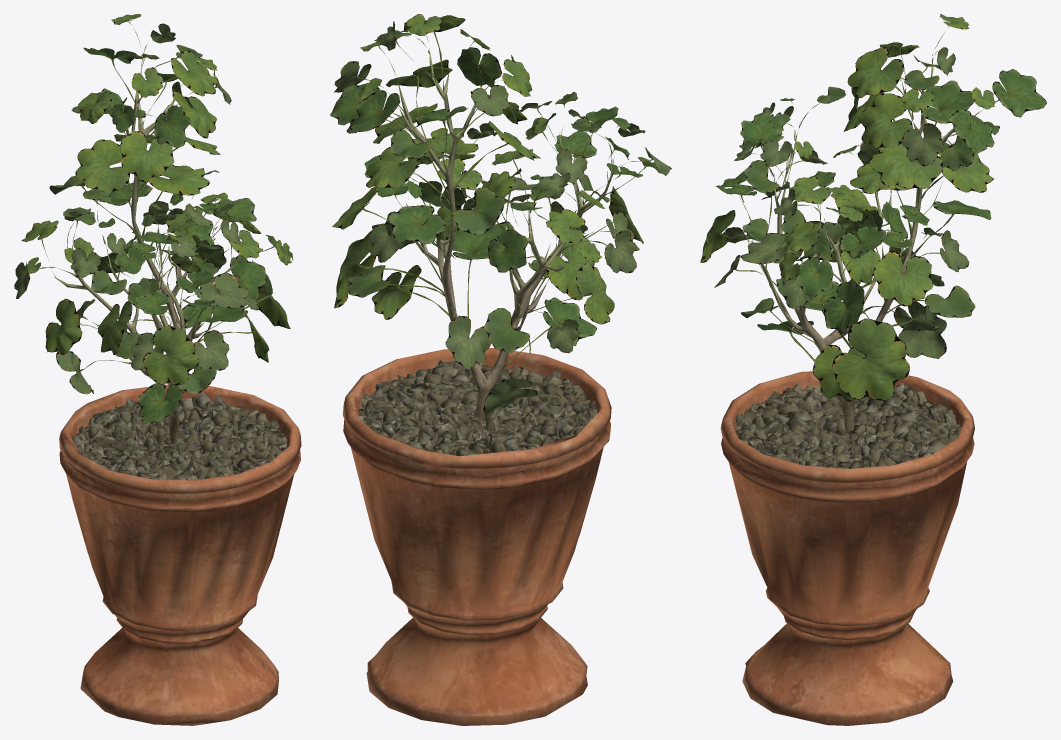
The model's file is potted_plant_01.glb.
3 renders of one model, left to right at view 1: azimuth 30°, elevation 25°; view 2: azimuth 150°, elevation 25°; view 3: azimuth 270°, elevation 25°, orthographic. The views are drawn at different scales.
Parts seen in each view (by area): view 1: potted_plant_01_pot, potted_plant_01_leaves, potted_plant_01_pebbles, potted_plant_01_stem; view 2: potted_plant_01_pot, potted_plant_01_leaves, potted_plant_01_pebbles, potted_plant_01_stem; view 3: potted_plant_01_pot, potted_plant_01_leaves, potted_plant_01_pebbles, potted_plant_01_stem.
Boxes of the visible parts, left/top/right/bottom form: potted_plant_01_pot: left=59, top=384, right=301, bottom=725; potted_plant_01_leaves: left=14, top=14, right=293, bottom=423; potted_plant_01_pebbles: left=68, top=392, right=286, bottom=480; potted_plant_01_stem: left=54, top=57, right=244, bottom=444; potted_plant_01_pot: left=343, top=348, right=611, bottom=725; potted_plant_01_leaves: left=330, top=14, right=671, bottom=414; potted_plant_01_pebbles: left=358, top=360, right=597, bottom=474; potted_plant_01_stem: left=397, top=48, right=612, bottom=420; potted_plant_01_pot: left=720, top=371, right=974, bottom=725; potted_plant_01_leaves: left=700, top=14, right=1046, bottom=401; potted_plant_01_pebbles: left=735, top=383, right=961, bottom=468; potted_plant_01_stem: left=752, top=57, right=954, bottom=433.
Bounding box in the file's own units: 0.5866 × 1.34 × 0.6336.
2 materials, 2 textured.
